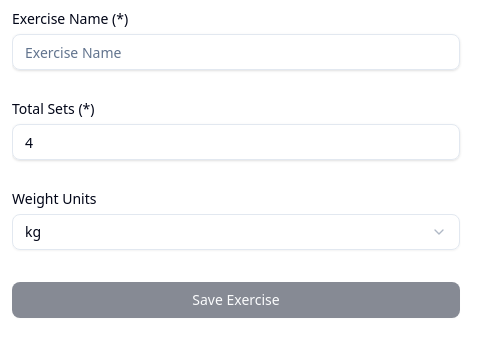
Test case: AddExerciseForm › shows validation error for invalid total sets
Type "Barbell Bench Press" into the field labelled "Exercise Name (*)" at (236, 52), box [12,34,460,70]
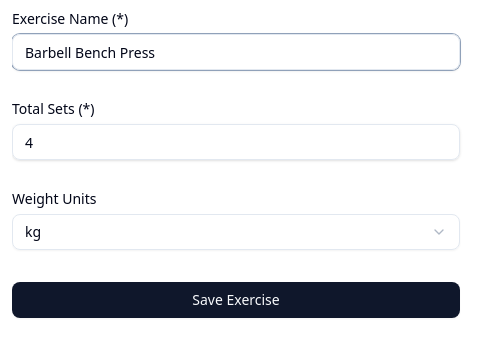
Replace the text in the number field labelled "Total Sets (*)" with "0" at (236, 142), box [12,124,460,160]
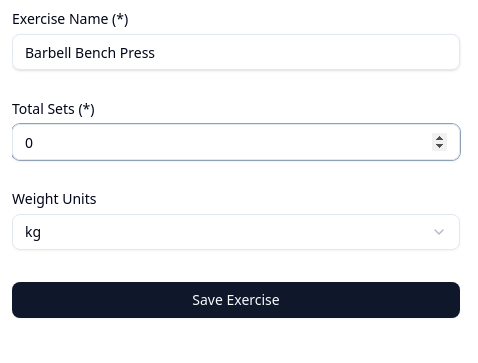
Click the button "Save Exercise" at (236, 300), box [12,282,460,318]
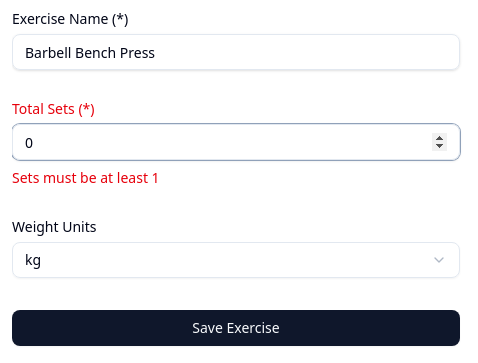
Expected: the text "Sets must be at least 1" is shown, [12,168,160,187]
